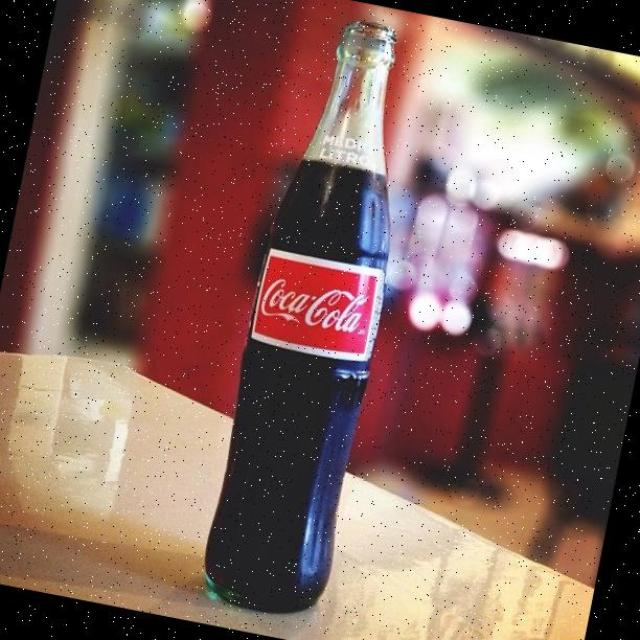coca-cola: (188, 1, 444, 627)
